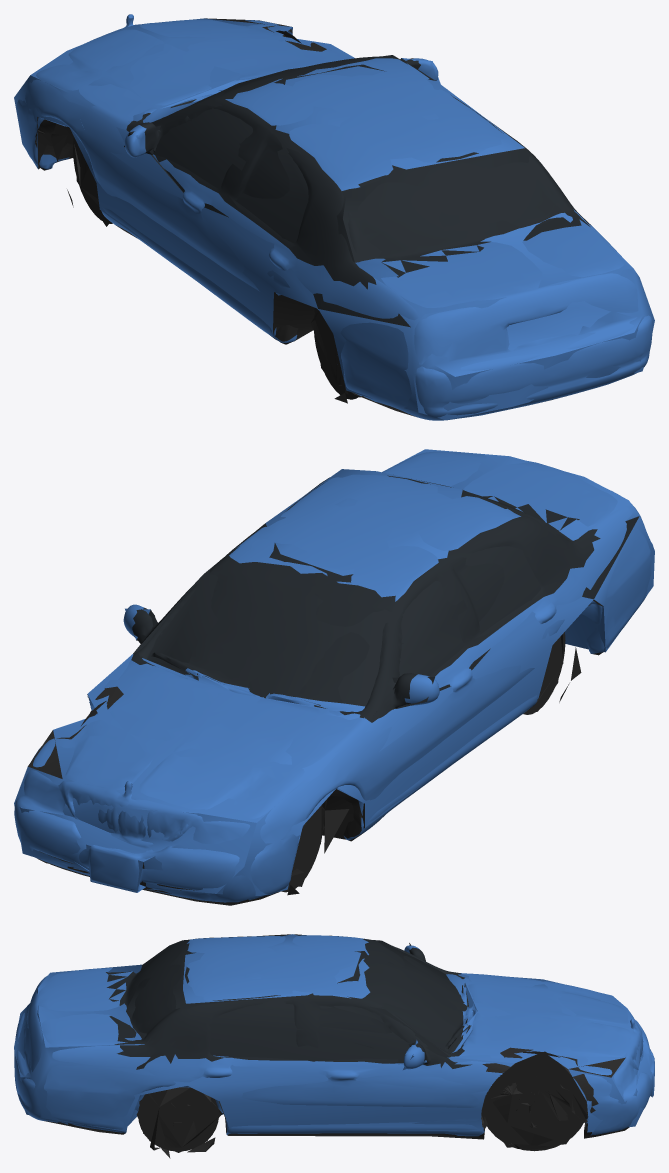
File: lincoln-town-car.glb
3 renders of one model, top to bottom at view 1: azimuth 30°, elevation 25°; view 2: azimuth 150°, elevation 25°; view 3: azimuth 270°, elevation 25°, orthographic. The views are drawn at different scales.
Visible parts, largest first — view 1: body, far; view 2: body, far; view 3: body, far.
Boxes of the visible parts, <box> form: body: <box>16,14,652,420</box>; far: <box>14,18,654,419</box>; body: <box>14,451,653,905</box>; far: <box>14,449,654,895</box>; body: <box>14,935,654,1158</box>; far: <box>14,934,653,1152</box>.
Bounding box in the file's own units: 2.27 × 1.51 × 5.54.
